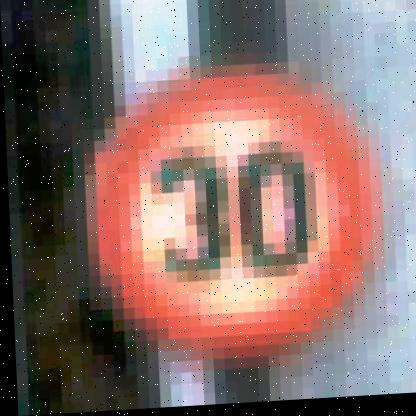Speed Limit -30-: (74, 54, 392, 370)
